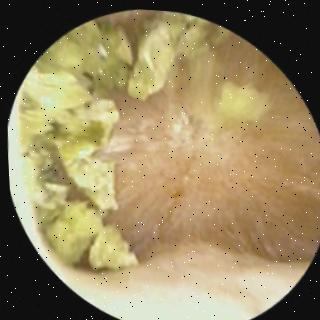stone: (18, 13, 209, 260), (212, 80, 268, 119), (87, 224, 135, 269)
tissue: (88, 35, 320, 320)
